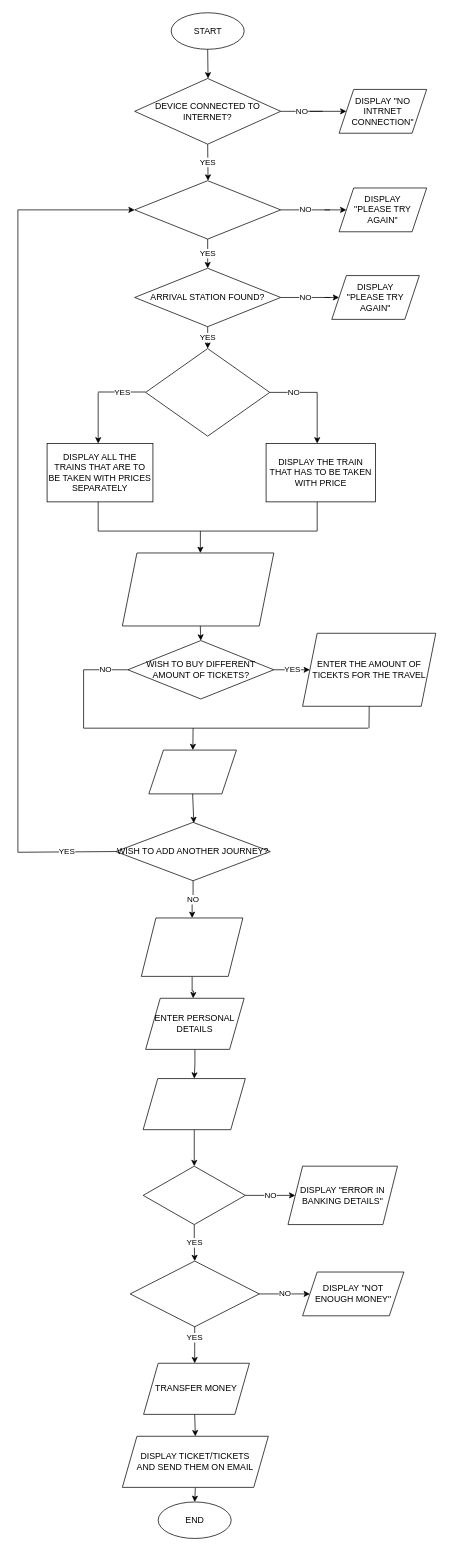
Image size: 449x1551. Some labels were removed from this diagram. The shapes that lost their labels are listed below. From the top down, each one's centre as x and y in pixels, then its label:
the point at 207,209: DEPARTURE STATION FOUND?
the point at 207,392: DOES THE JOURNEY RECQUIRE THE CHANGE OF TRAINS?
the point at 198,589: DISPLAY A PRICE FOR ONE PERSON
the point at 192,771: DISPLAY TOTAL PRICE OF JOURNEY
the point at 192,946: DISPLAY TOTAL PRICE FOR ALL THE JOURNEYS
the point at 193,1104: ENTER BANK DETAILS
the point at 193,1195: BANK DETAILS OK?
the point at 194,1293: ENOUGH MONEY ON ACCOUNT?
